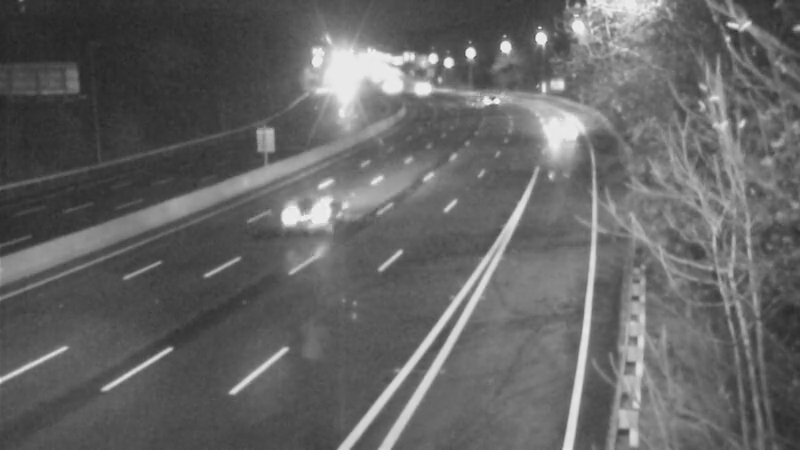vehicle: (263, 178, 343, 258), (393, 62, 443, 112), (456, 74, 506, 124), (534, 102, 584, 152)
